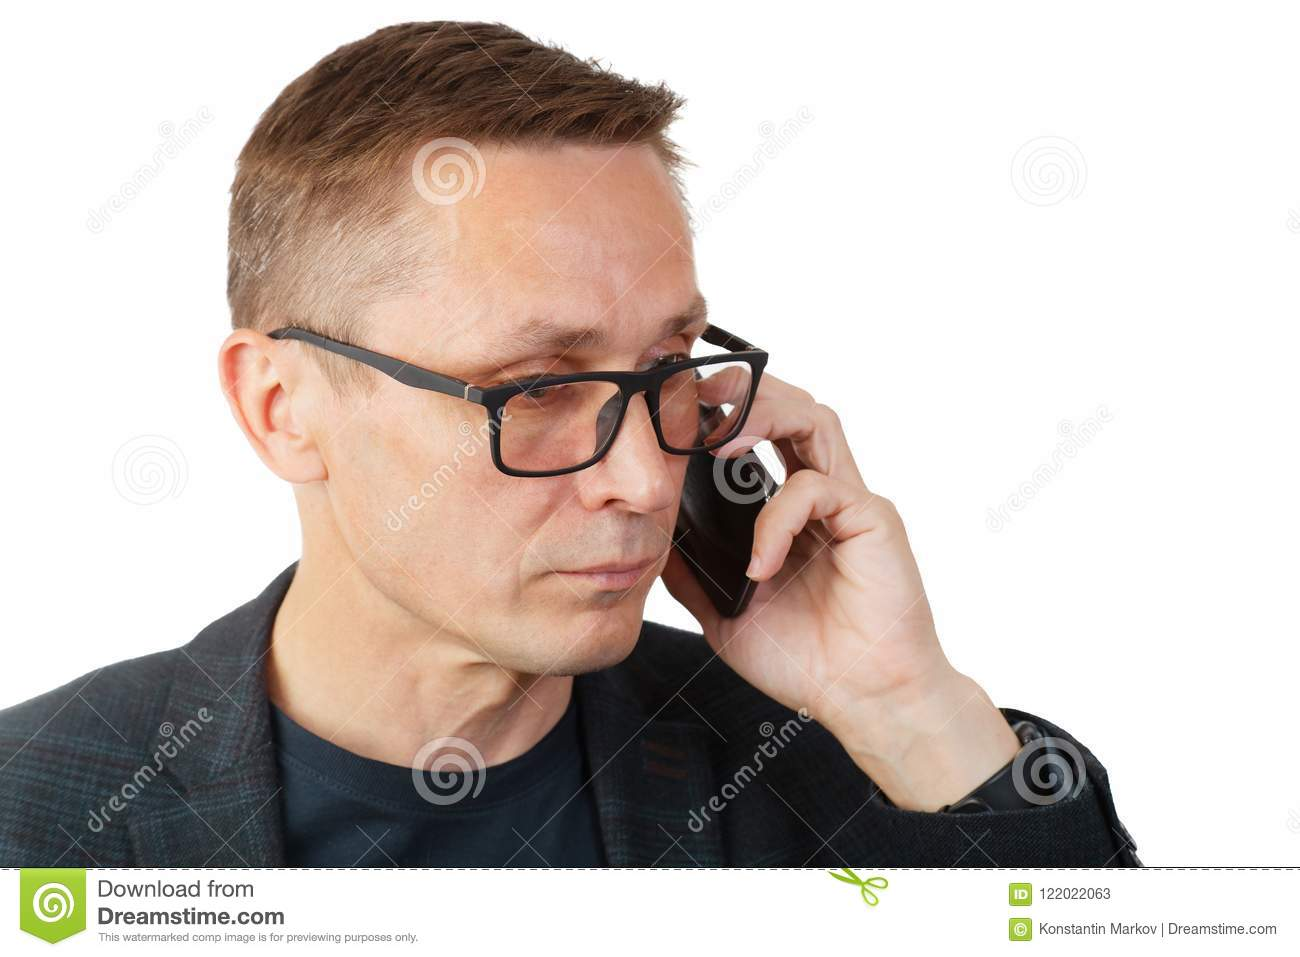phone: (664, 366, 790, 622)
talk: (431, 283, 976, 777)
